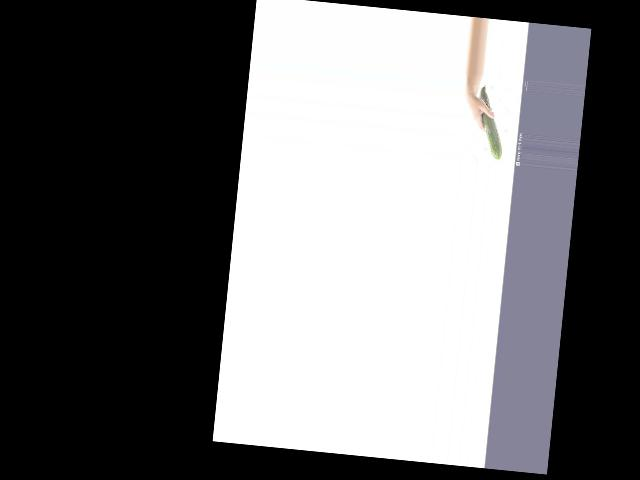cucumber: (473, 84, 508, 159)
